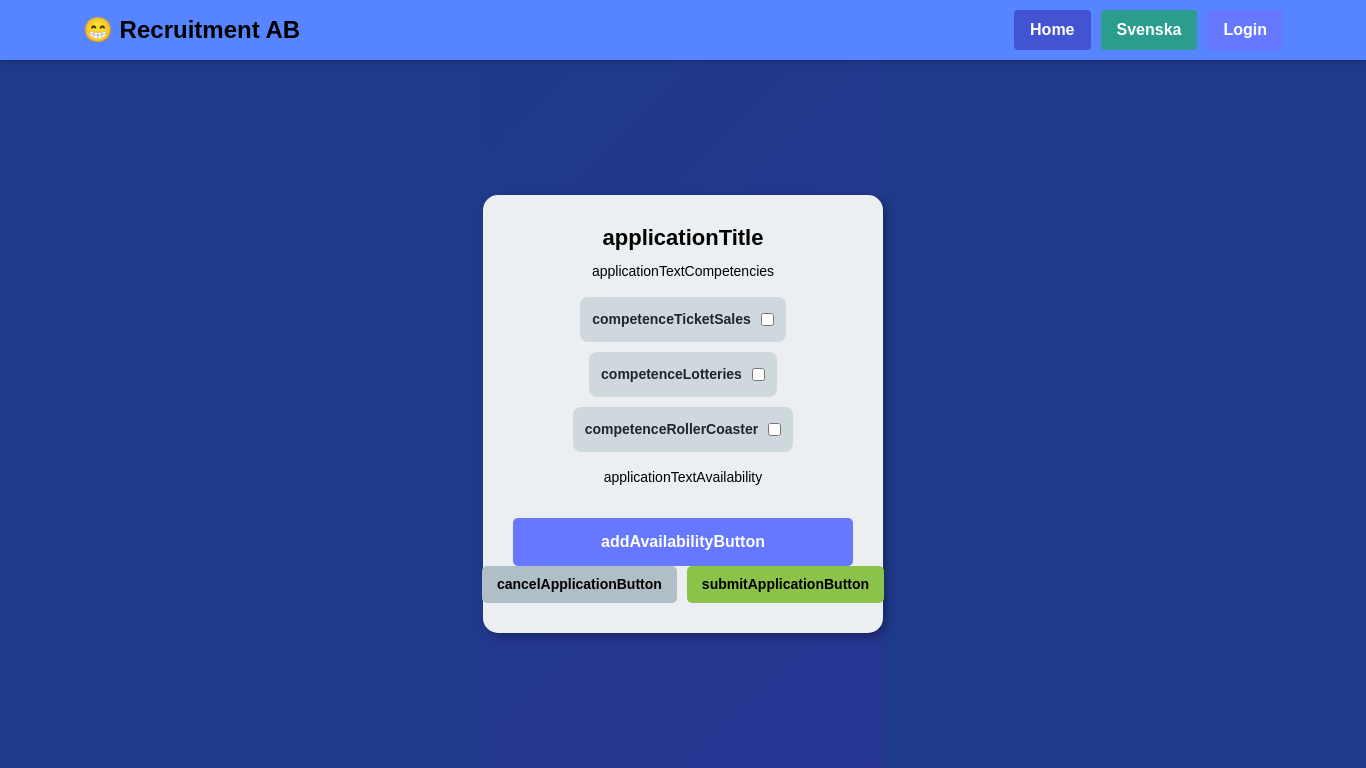
Scenario: MakeApplicationView › clicking on "Add Availability" button adds an availability period
Click the button "addAvailabilityButton". click: point(683, 542)
box: [513,518,853,566]
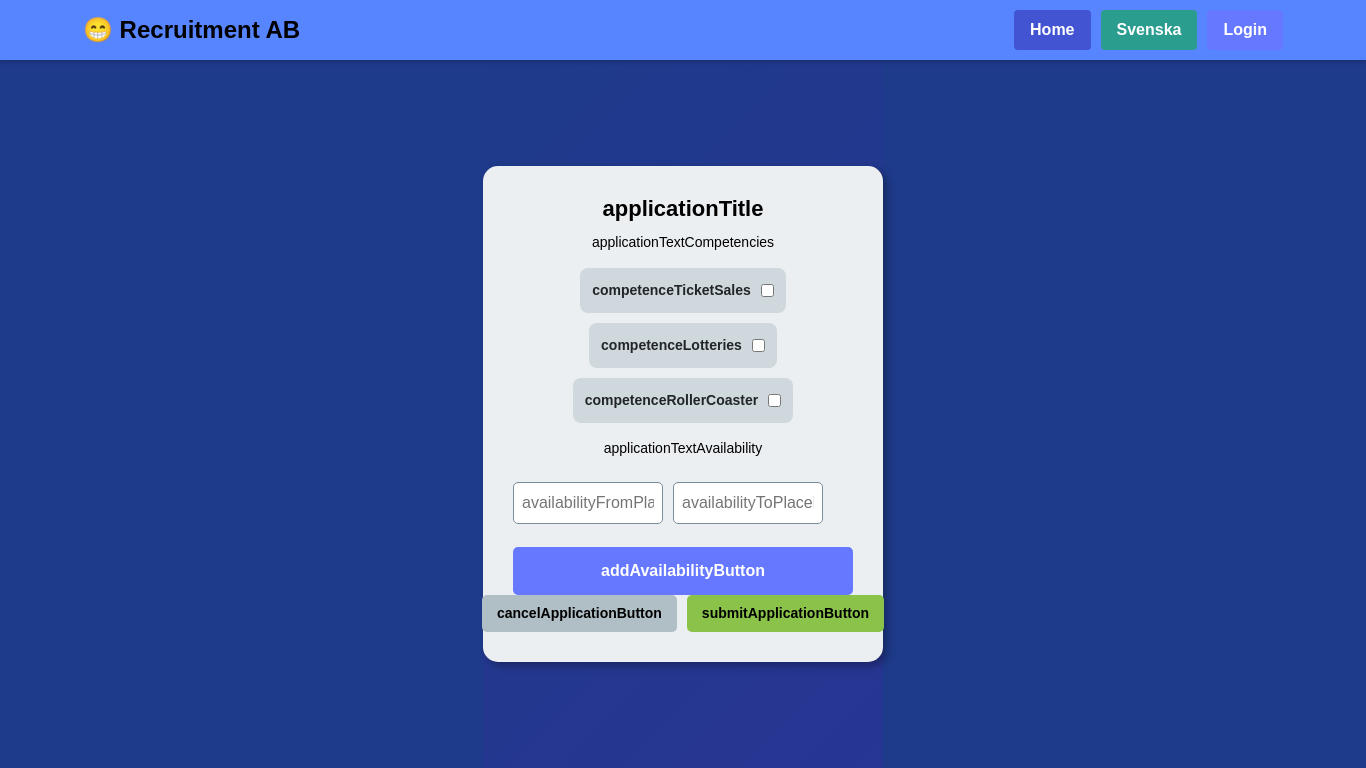
Check: the field with placeholder "availabilityFromPlaceholder" is shown, box [513,482,663,524]
